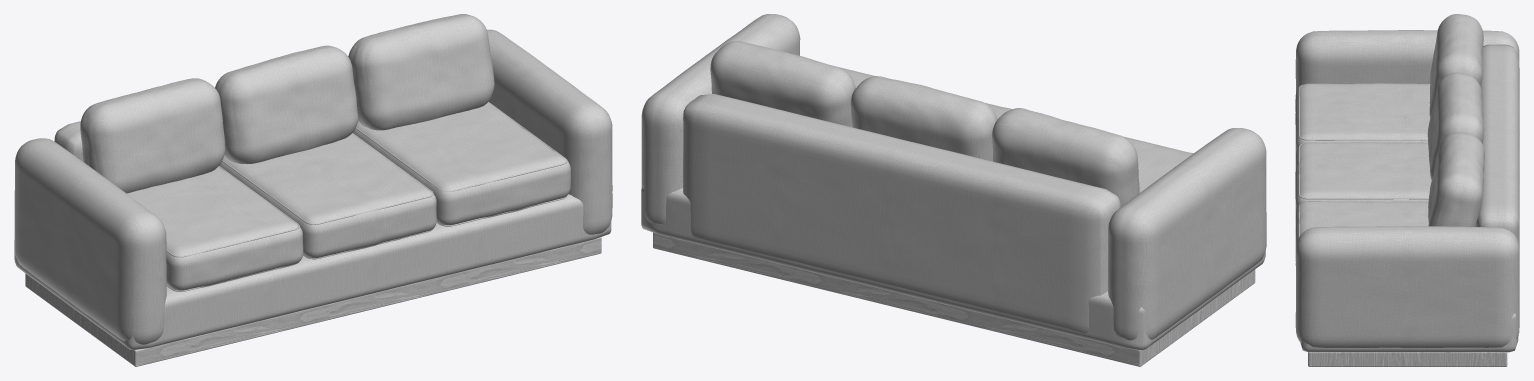
File: sofa-3-seater.gltf
3 renders of one model, left to right at view 1: azimuth 30°, elevation 25°; view 2: azimuth 150°, elevation 25°; view 3: azimuth 270°, elevation 25°, orthographic. The views are drawn at different scales.
Visible parts, largest first — view 1: sofa; view 2: sofa; view 3: sofa.
Boxes of the visible parts, bbox=[...] form: sofa: bbox=[14, 14, 612, 366]; sofa: bbox=[641, 14, 1266, 366]; sofa: bbox=[1295, 14, 1519, 366].
Bounding box in the file's own units: 2.1 × 0.7813 × 0.9234.
Materials: 2 (2 with a texture image).
